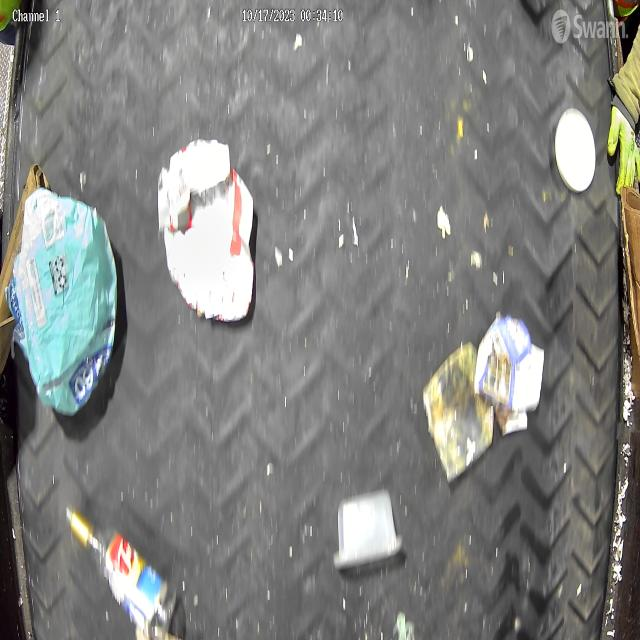plastic_bottle: (65, 502, 177, 629)
